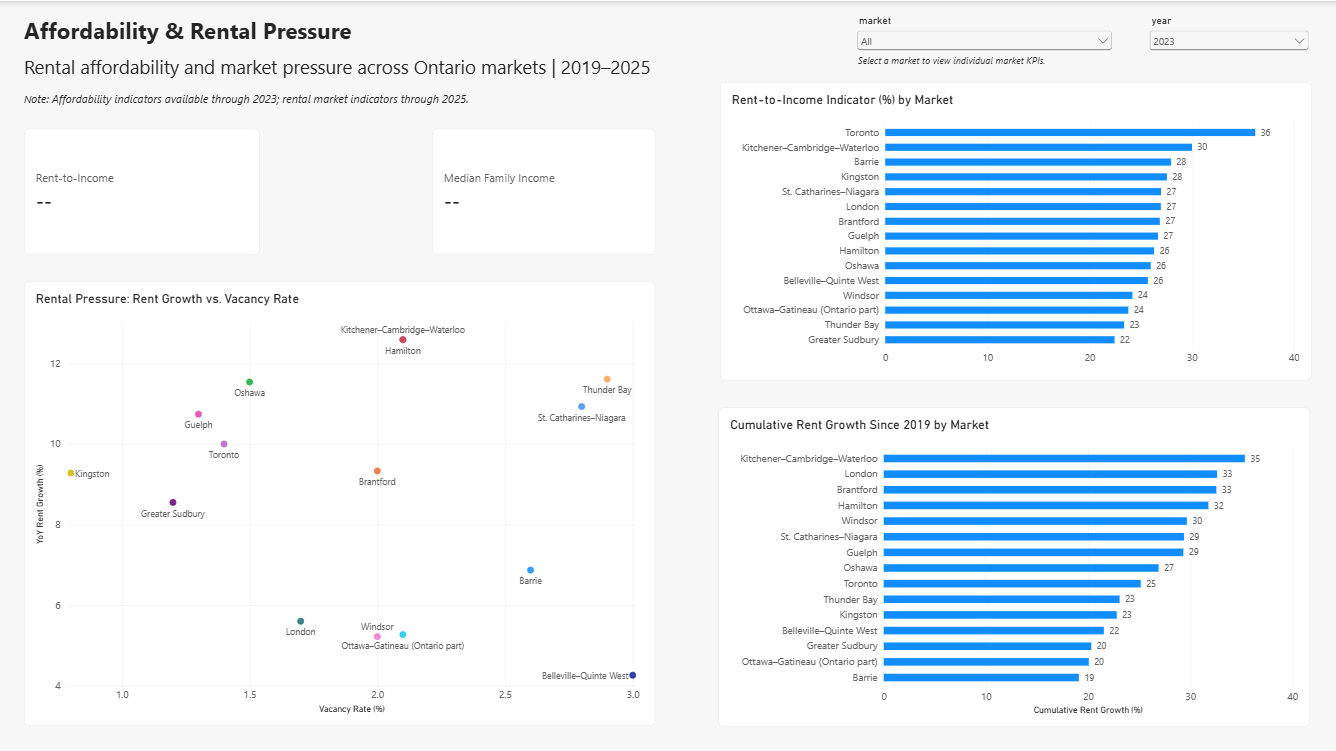

Layout of this report page (visuals, bound fields, positions):
{"tool":"powerbi","page":{"name":"Affordability & Rental Pressure","canvas":[1920,1080],"ordinal":2},"visuals":[{"type":"textbox","box":[35,20,542.5,55],"z":0},{"type":"textbox","box":[34.1,75,926.7,106.8],"z":1},{"type":"slicer","fields":{"Values":["Dim Market.market"]},"box":[1222.5,20,375,85],"z":2},{"type":"slicer","fields":{"Values":["Dim Year.observation_year"]},"box":[1642.5,20,237.5,95],"z":3},{"type":"cardVisual","title":"Rent-to-Income Indicator","fields":{"Data":["analytics vw_market_comparison.Selected Rent-to-Income"]},"box":[34.1,181.7,338.4,181.7],"z":4},{"type":"cardVisual","fields":{"Data":["analytics vw_market_comparison.Selected Median Family Income"]},"box":[617.8,181.7,320.3,181.7],"z":5},{"type":"clusteredBarChart","title":"Rent-to-Income Indicator (%) by Market","fields":{"Category":["analytics vw_market_comparison.market"],"Y":["Sum(analytics vw_market_comparison.rent_to_income_pct)"]},"box":[1031.2,115.8,847.5,427.5],"z":6},{"type":"scatterChart","title":"Rental Pressure: Rent Growth vs. Vacancy Rate","fields":{"Category":["analytics vw_market_comparison.market"],"Series":["analytics vw_market_comparison.market"],"X":["Avg(analytics vw_market_comparison.vacancy_rate)"],"Y":["Sum(analytics vw_market_comparison.calculated_rent_yoy_pct)"]},"box":[34.1,402,904,636],"z":7},{"type":"clusteredBarChart","title":"Cumulative Rent Growth Since 2019 by Market","fields":{"Category":["analytics vw_market_comparison.market"],"Y":["Sum(analytics vw_market_comparison.cumulative_rent_growth_pct)"]},"box":[1028.9,581.5,847.5,457.5],"z":8},{"type":"textbox","box":[1229,75.2,358.8,30.1],"z":9}]}

Visuals, with their boxes in screenshot pixels (x1, y1, x2, y2), scaled from the page's 1920x1080 canvas onto the 1336x751 screenshot:
textbox: {"left": 24, "top": 14, "right": 402, "bottom": 52}
textbox: {"left": 24, "top": 52, "right": 669, "bottom": 126}
slicer - Dim Market.market: {"left": 851, "top": 14, "right": 1112, "bottom": 73}
slicer - Dim Year.observation_year: {"left": 1143, "top": 14, "right": 1308, "bottom": 80}
"Rent-to-Income Indicator" cardVisual: {"left": 24, "top": 126, "right": 259, "bottom": 253}
cardVisual - analytics vw_market_comparison.Selected Median Family Income: {"left": 430, "top": 126, "right": 653, "bottom": 253}
"Rent-to-Income Indicator (%) by Market" clusteredBarChart: {"left": 718, "top": 81, "right": 1307, "bottom": 378}
"Rental Pressure: Rent Growth vs. Vacancy Rate" scatterChart: {"left": 24, "top": 280, "right": 653, "bottom": 722}
"Cumulative Rent Growth Since 2019 by Market" clusteredBarChart: {"left": 716, "top": 404, "right": 1306, "bottom": 722}
textbox: {"left": 855, "top": 52, "right": 1105, "bottom": 73}
